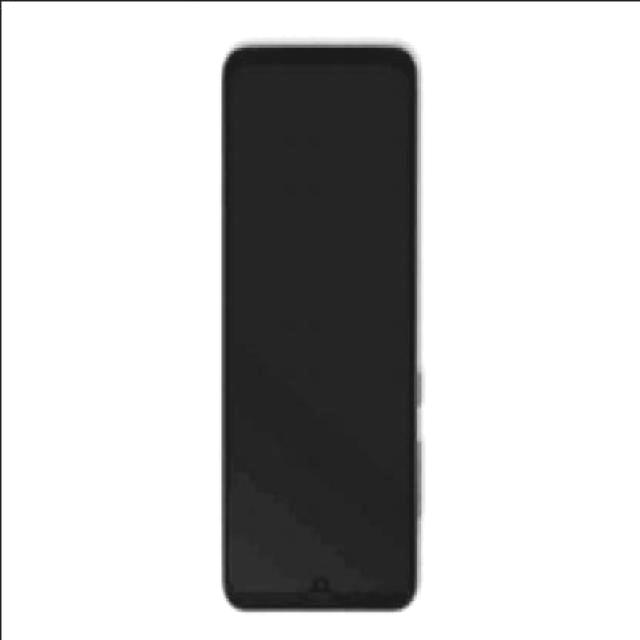phone: (218, 43, 418, 611)
